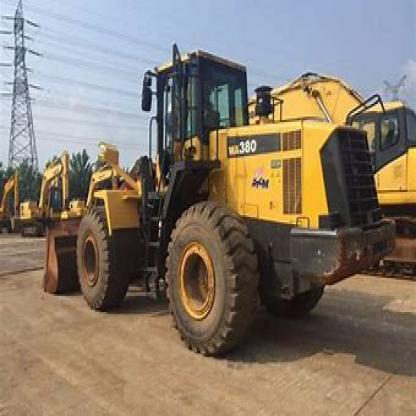bull_dozer/loader/grader: (36, 48, 392, 357)
